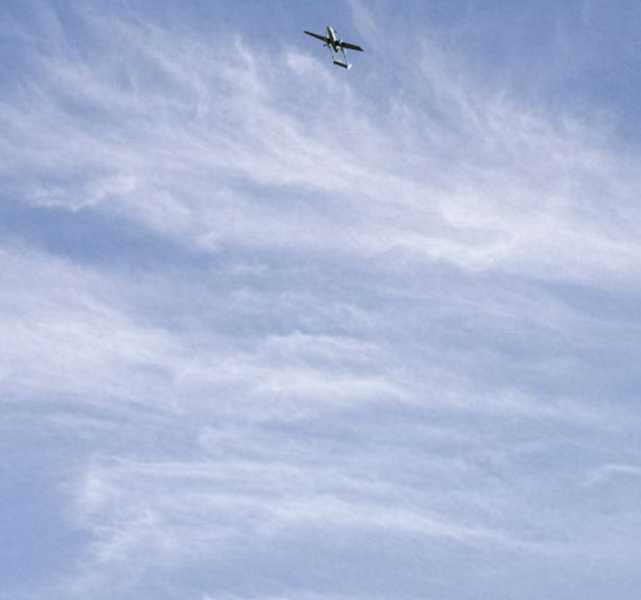military drone: (303, 25, 364, 70)
